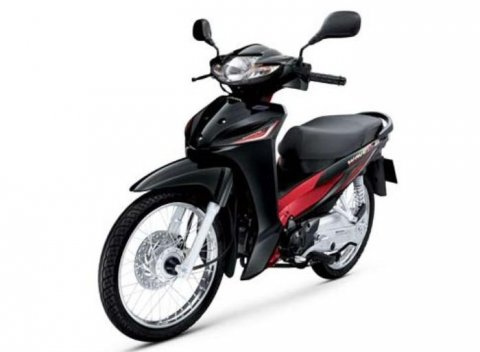motorcycle: (106, 12, 395, 341)
